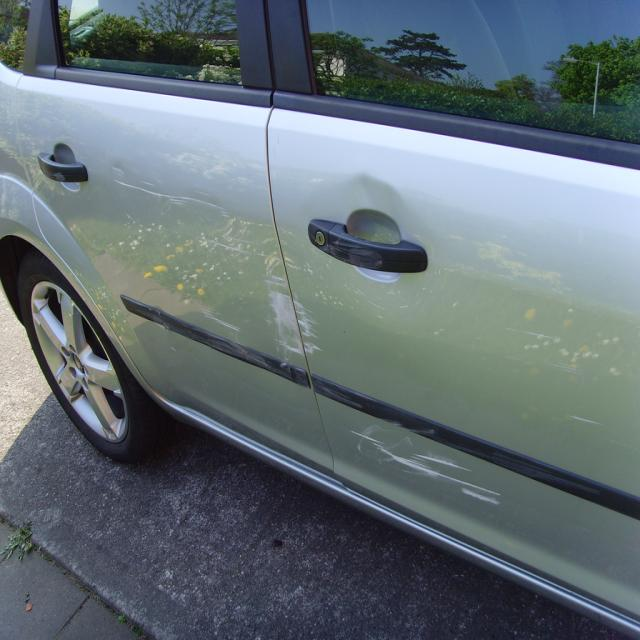scratch: (200, 275, 391, 412), (350, 418, 603, 508), (112, 166, 232, 219), (199, 305, 241, 332)
